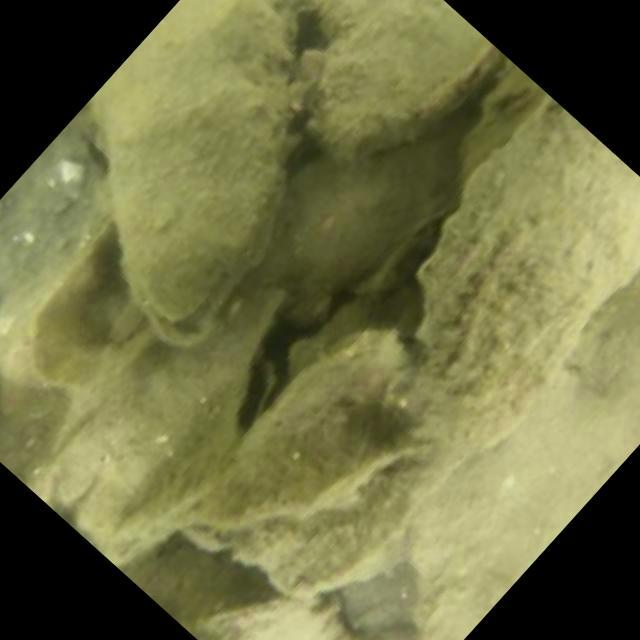Oyster-Closed: (402, 65, 640, 456), (85, 0, 296, 344), (237, 461, 458, 608), (275, 129, 463, 295), (198, 399, 409, 541), (312, 0, 502, 156), (228, 319, 404, 468), (0, 135, 101, 356), (101, 443, 238, 554), (172, 599, 367, 640)
